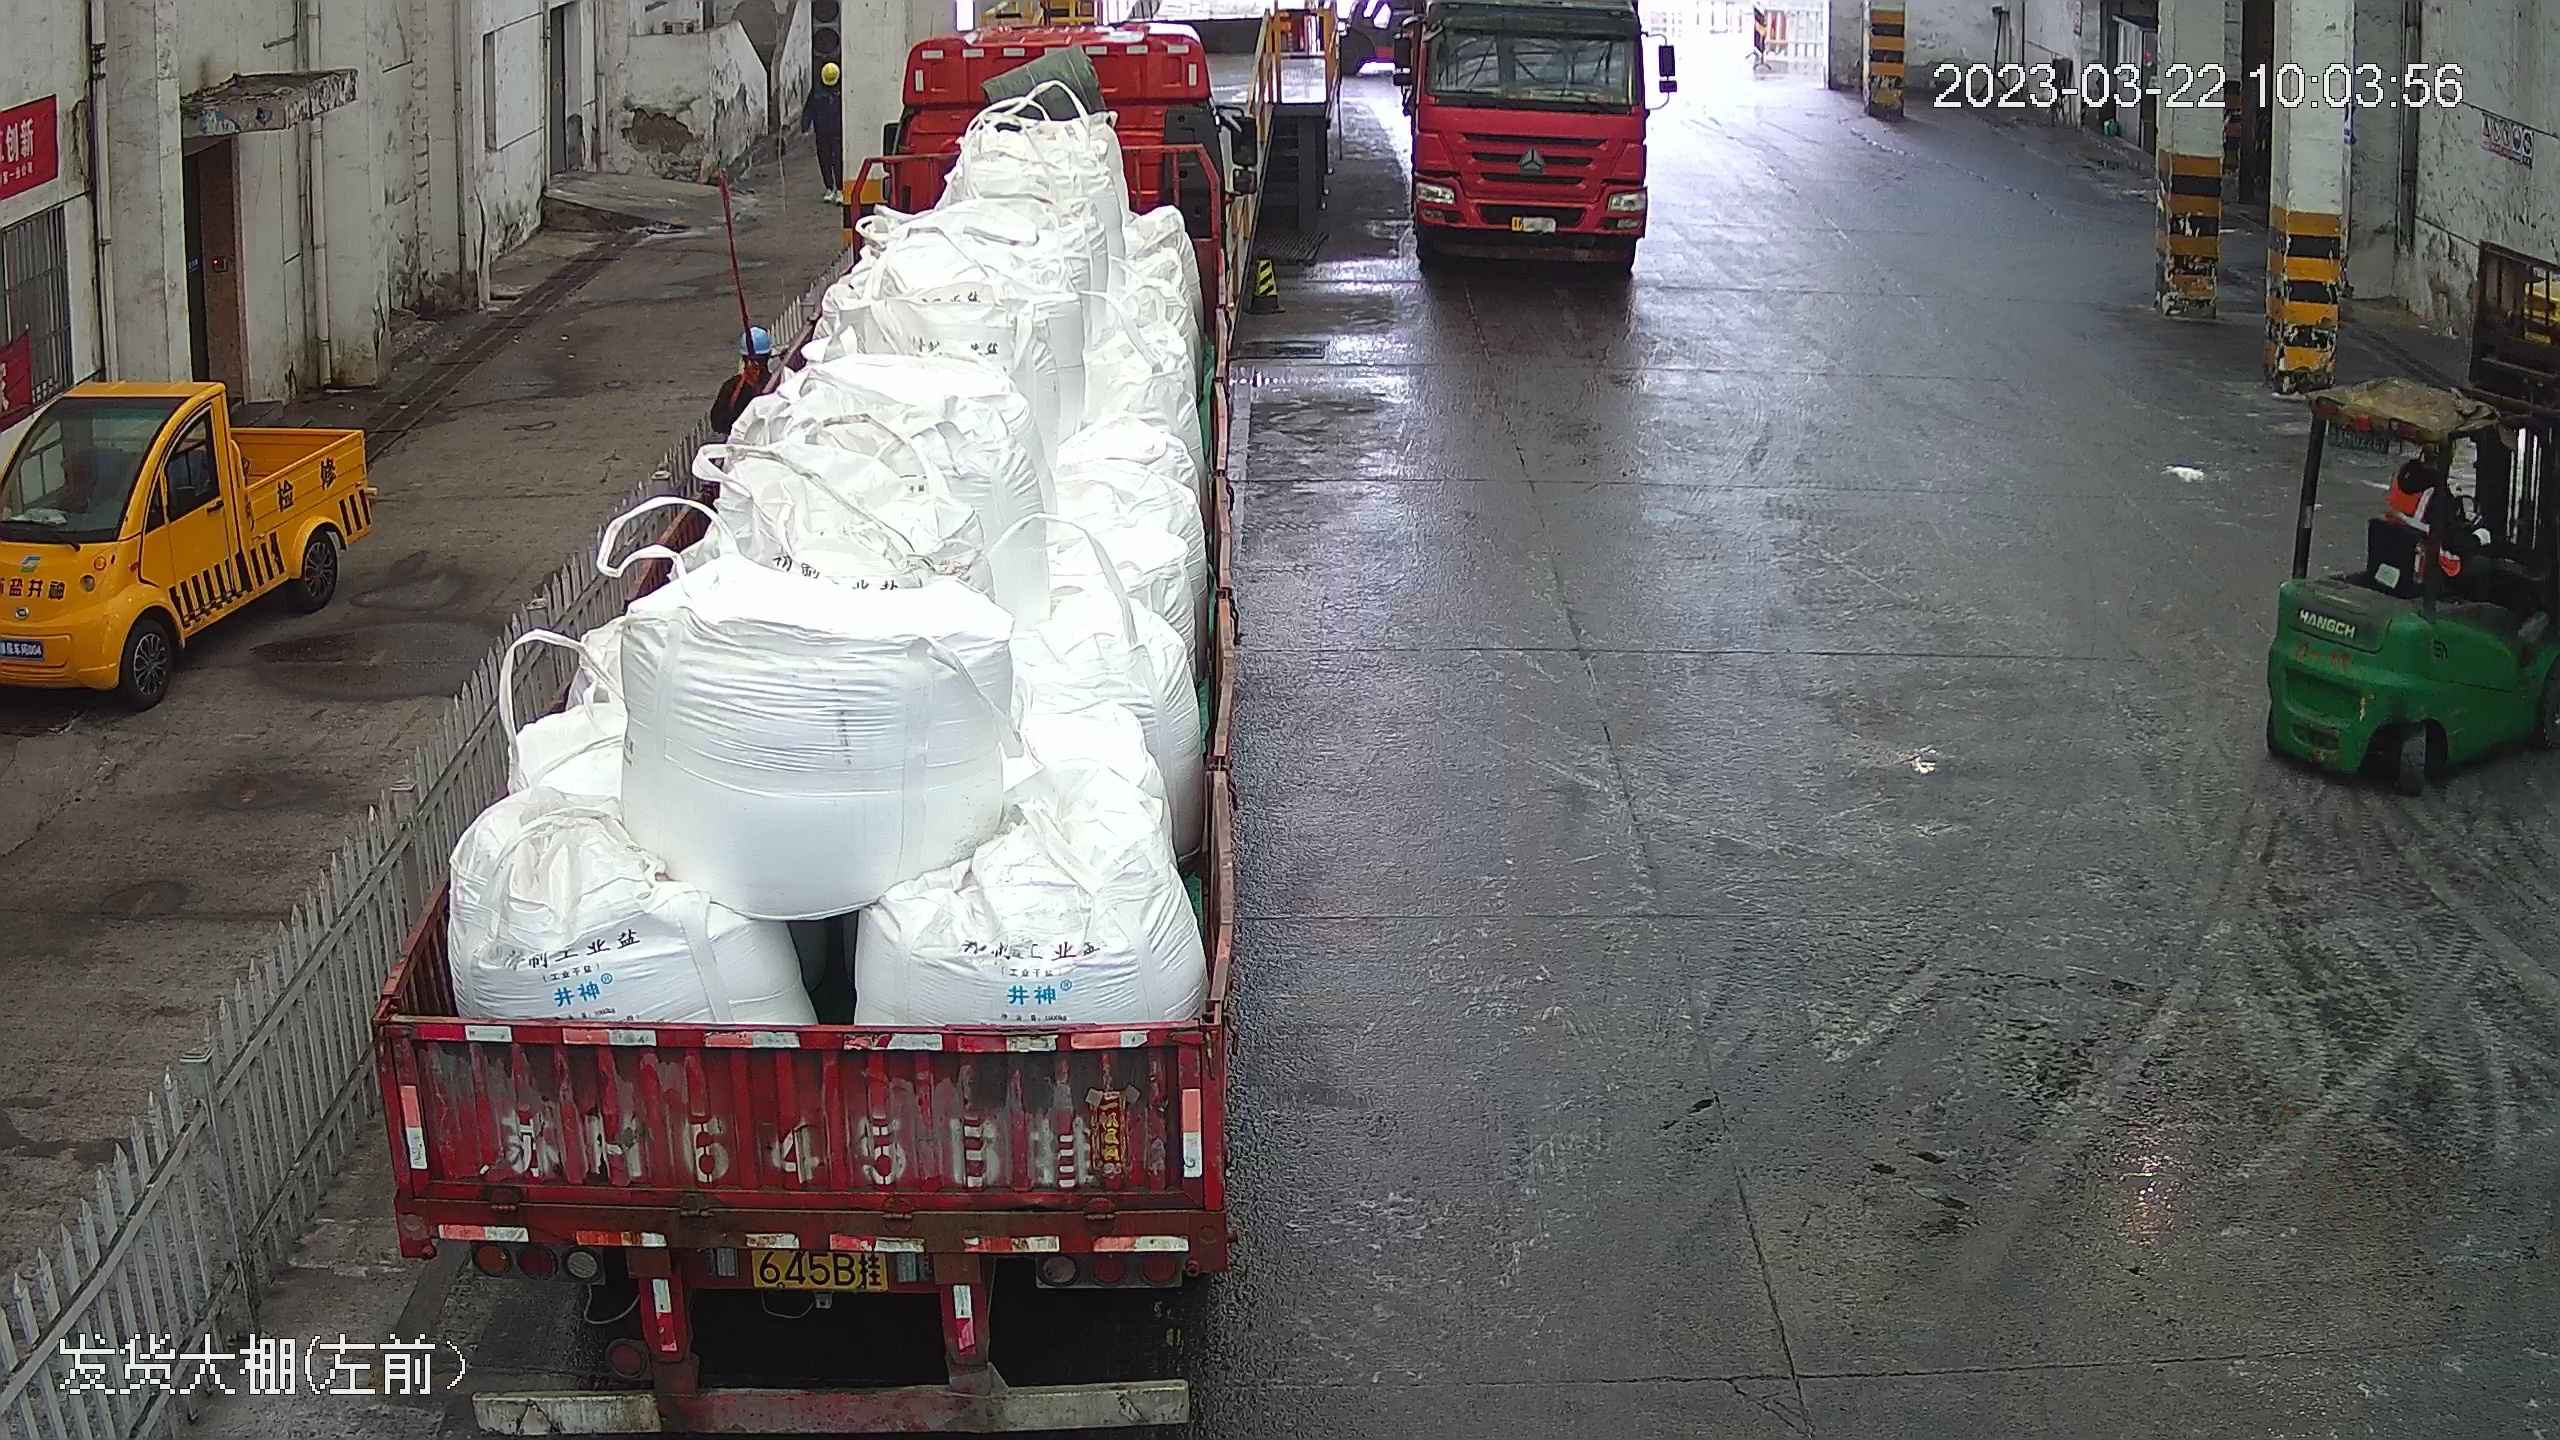belt: (728, 355, 761, 408)
head: (803, 60, 846, 105)
helmet: (740, 321, 778, 354), (844, 171, 879, 201), (814, 61, 841, 85)
people: (795, 59, 849, 199), (1651, 24, 1681, 98)
truck: (327, 1, 1284, 1425), (1393, 4, 1671, 263)
